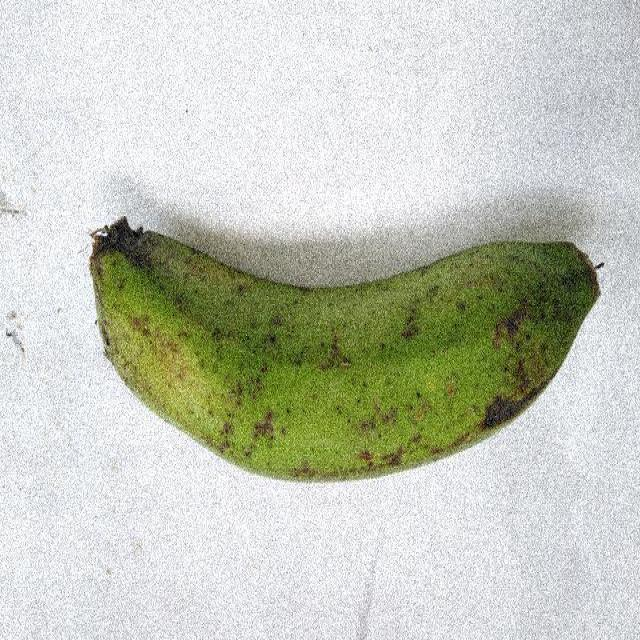Verde: (85, 213, 604, 484)
